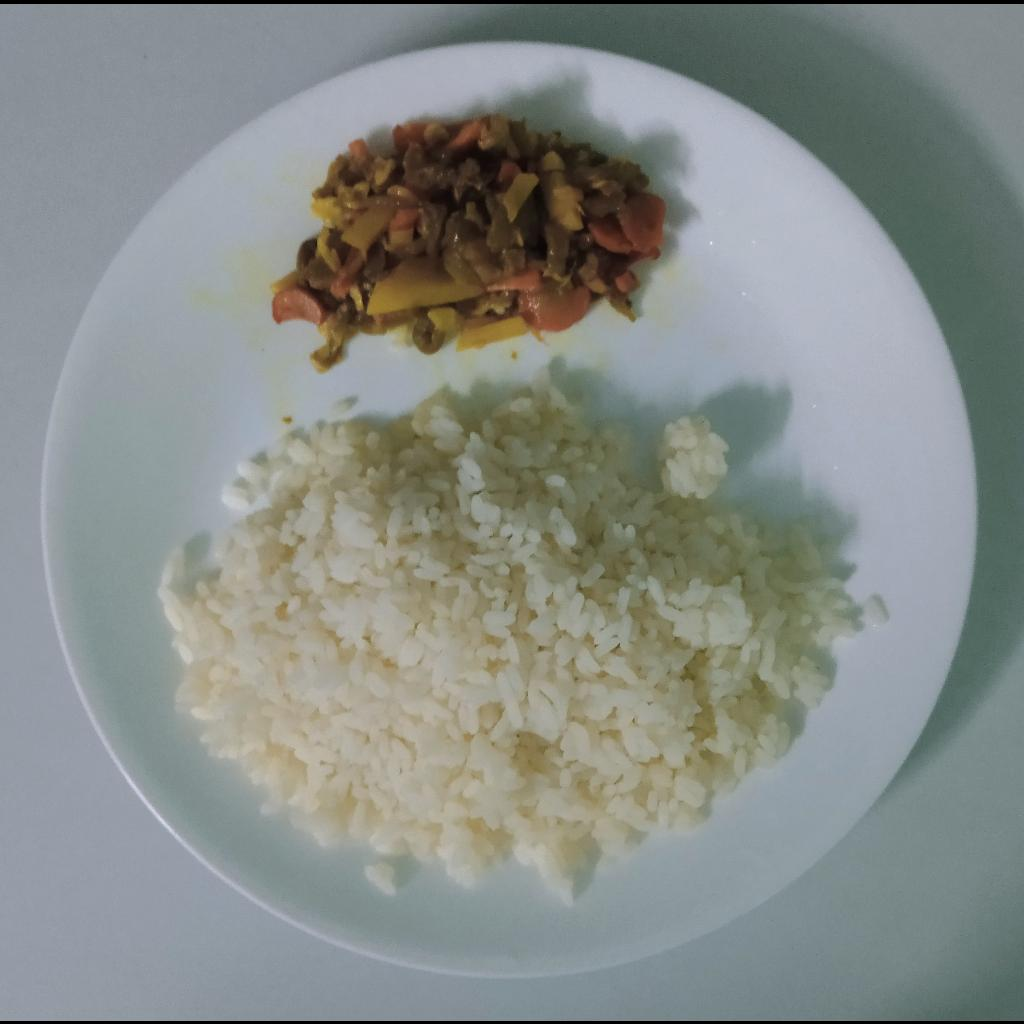rice: (160, 366, 882, 907)
vegetable: (270, 111, 665, 370)
